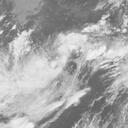cyclone: (26, 40, 80, 97)
